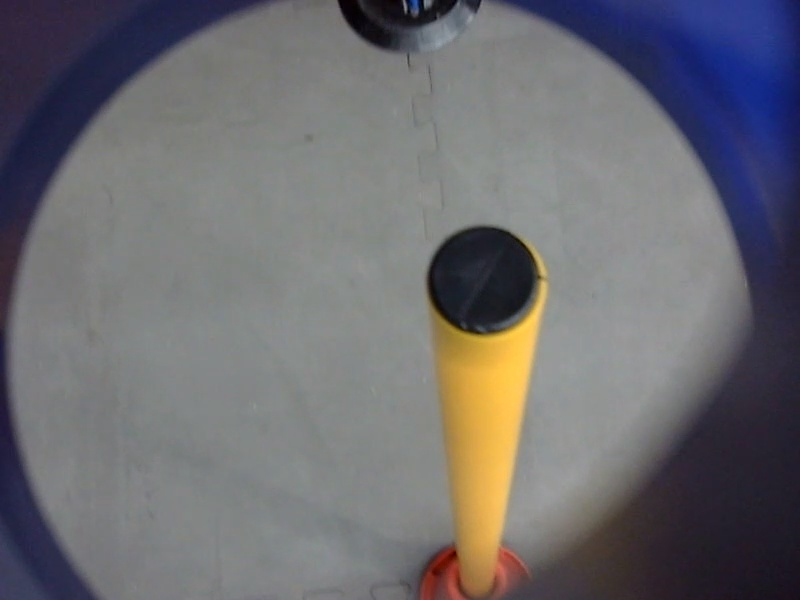tip: (420, 221, 552, 346)
